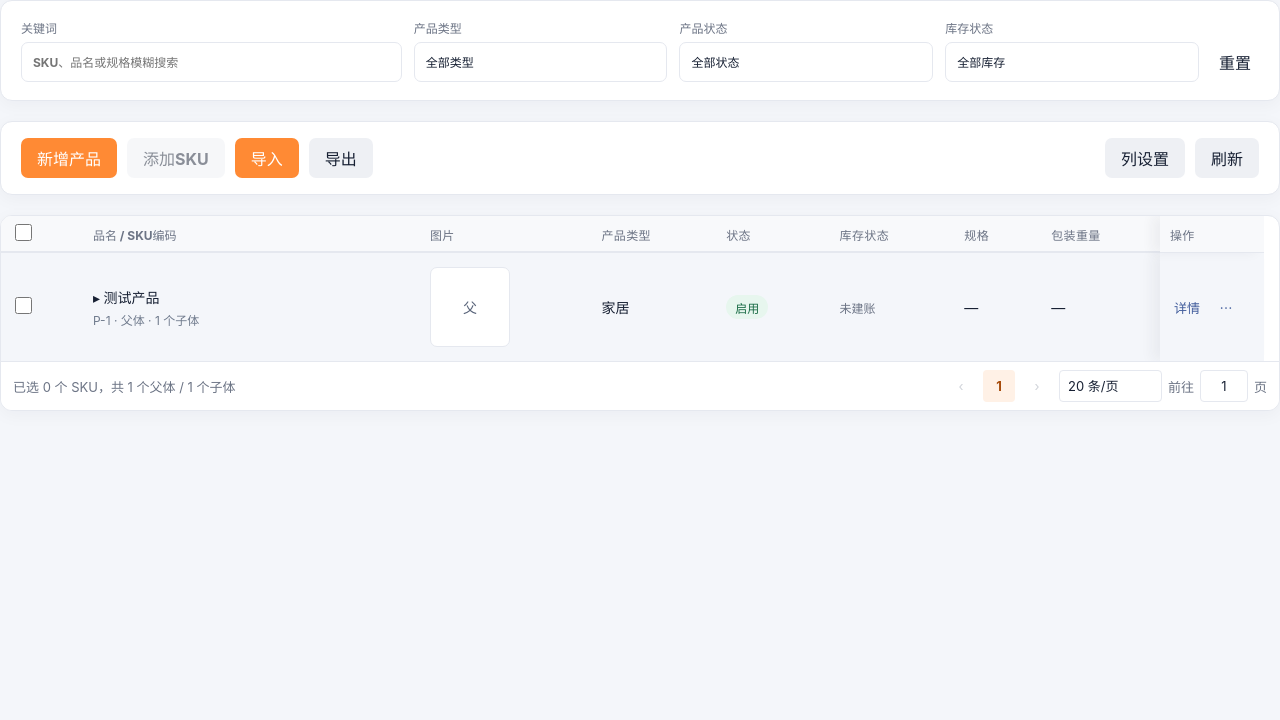
ProductsView › opens the separate manual and label tabs for the selected child
Click the button "▸ 测试产品 P-1 · 父体 · 1 个子体" at [146, 307], box [93,286,199,328]
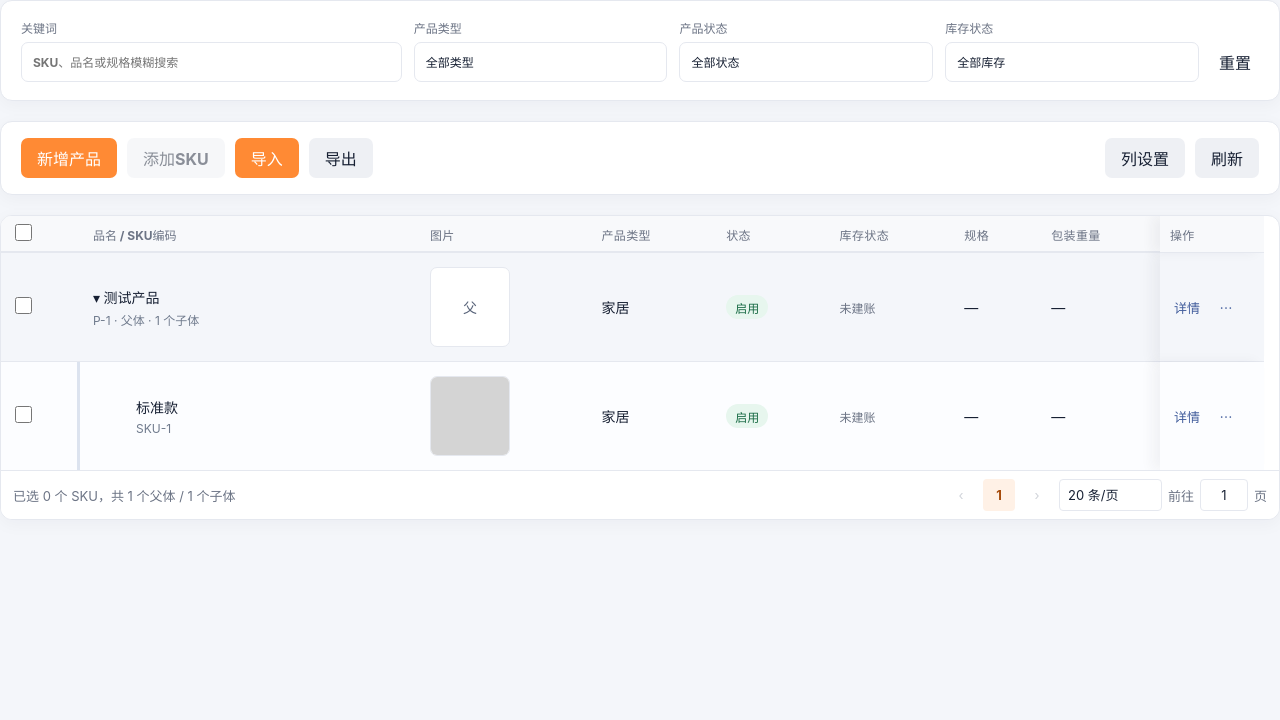
Click the button with class "sku-code-button" at [157, 416], box [136,396,178,436]
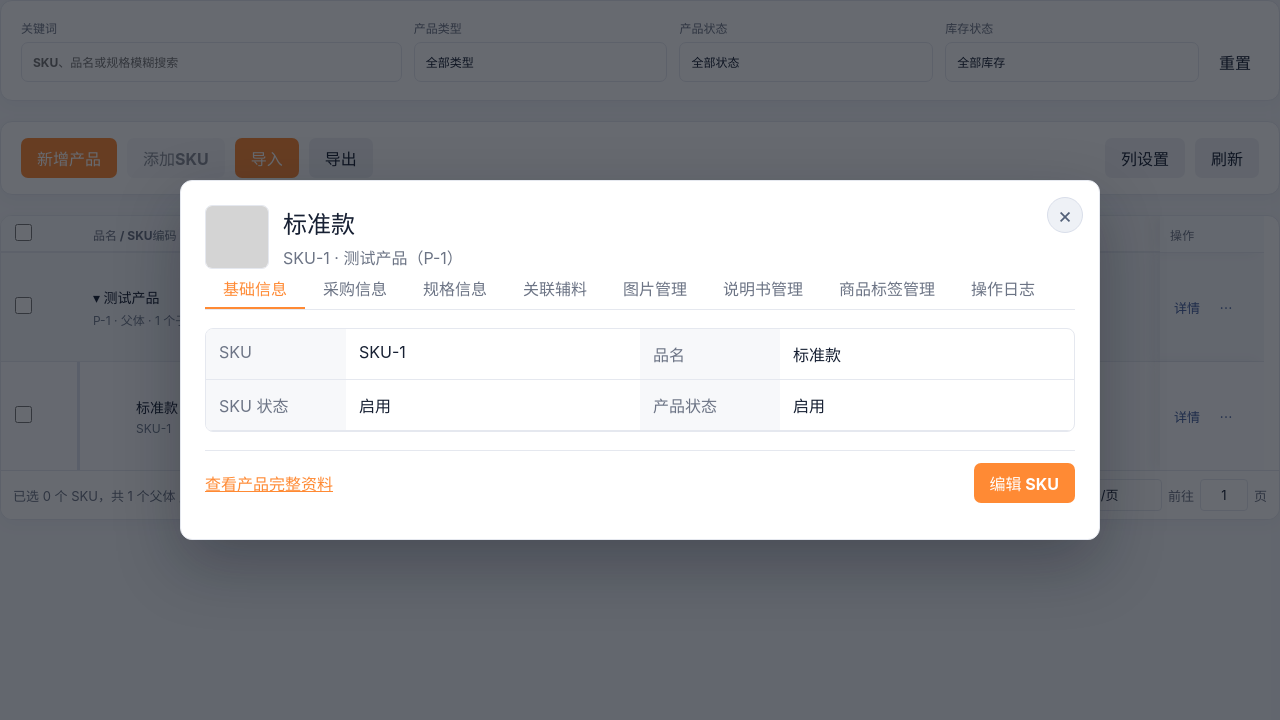
Click the button "说明书管理" at [763, 289], box [705,269,821,309]
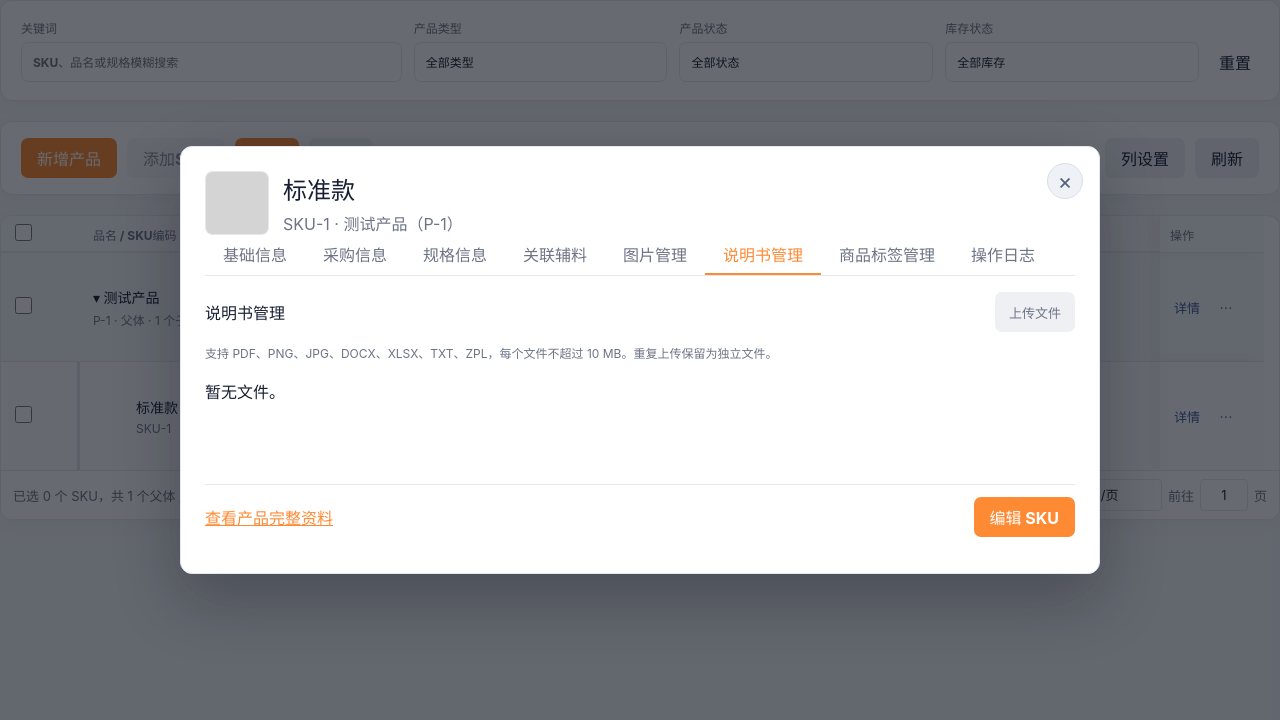
Result: the heading "说明书管理" is shown at [205,300,285,324]
Click the button "商品标签管理" at [887, 255], box [821,235,953,275]
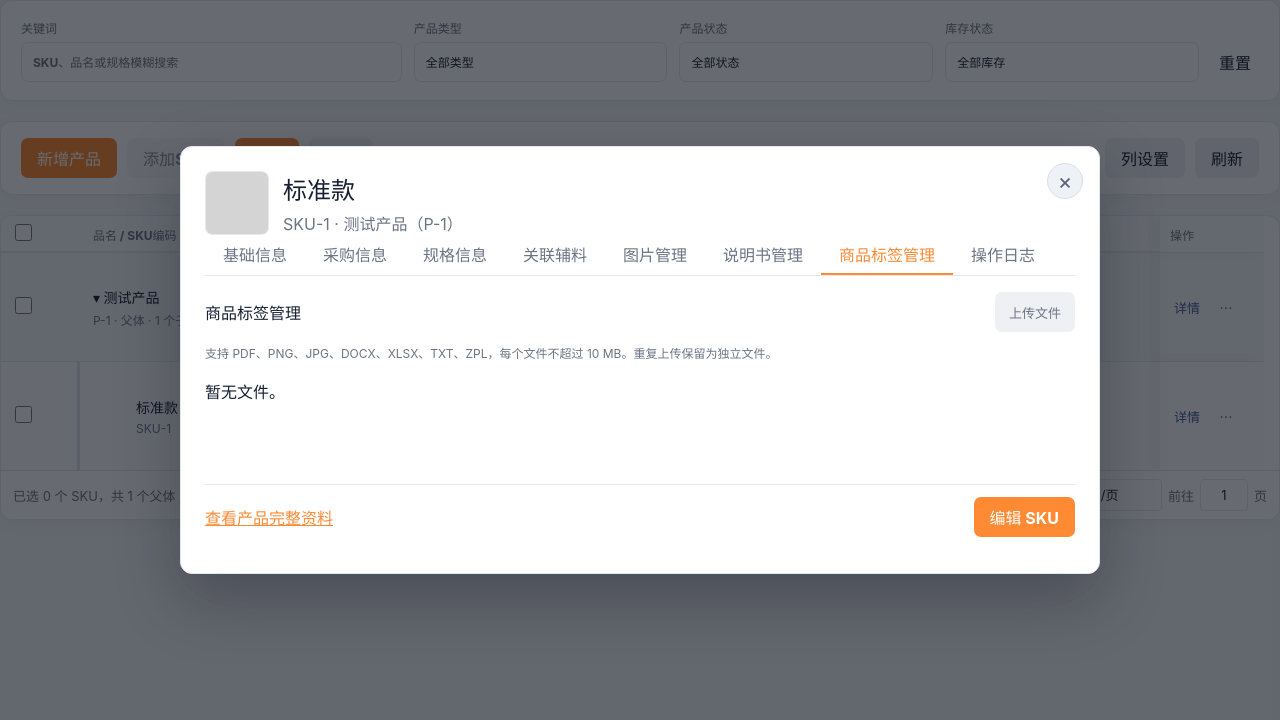
Result: the heading "商品标签管理" is shown at [205,300,301,324]
